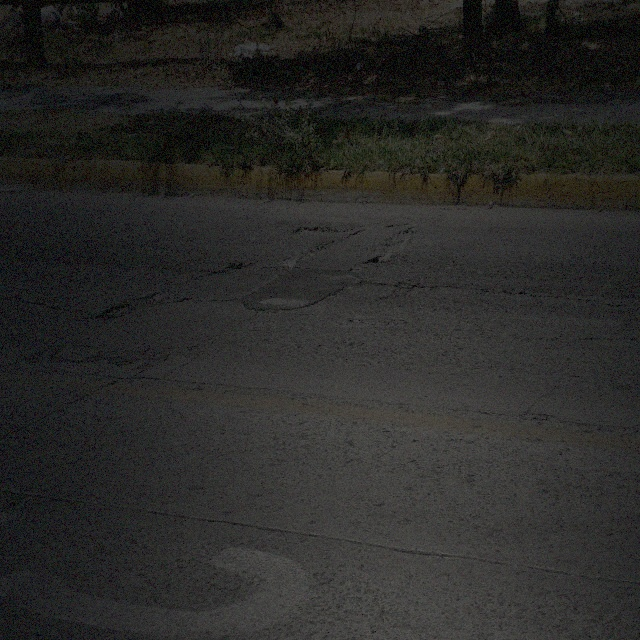pothole: (365, 229, 409, 267), (97, 301, 132, 323), (388, 228, 412, 256), (295, 221, 339, 233), (149, 290, 185, 303), (276, 255, 301, 272), (226, 260, 253, 272), (366, 254, 386, 267)
